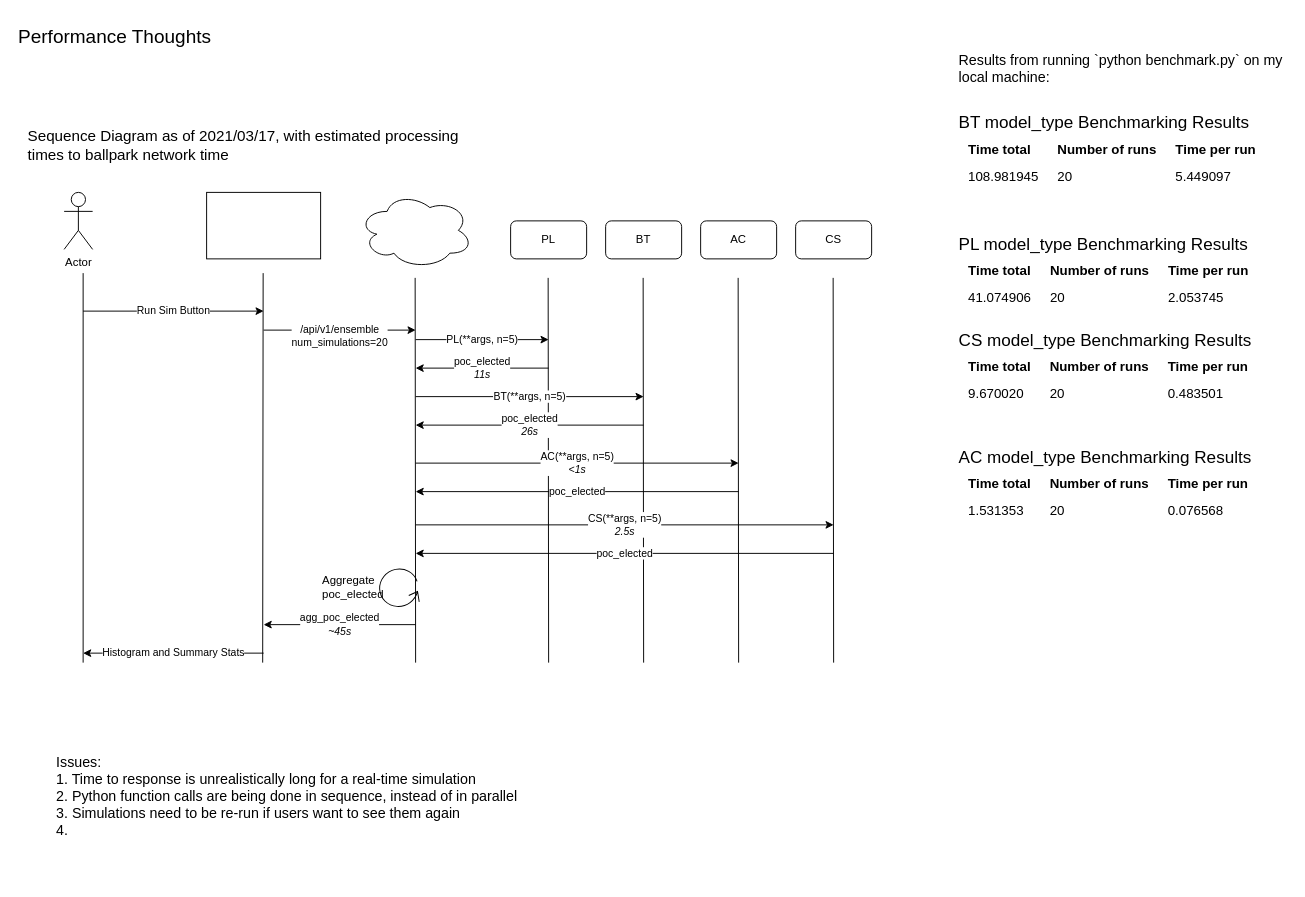
This 1305x897 diagram has some shape labels left out. The box of each missing label's shape, as (x1, y1, x2, y2) in pixels:
API: (358, 191, 473, 268)
Web App: (206, 191, 321, 259)
